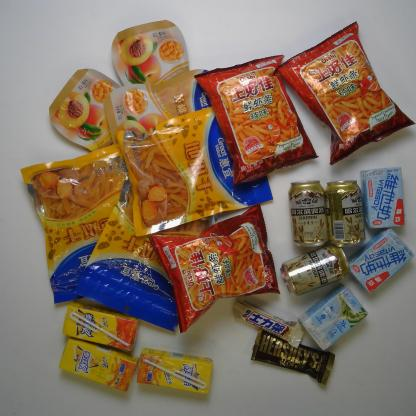Alcohol: (281, 238, 358, 298), (285, 176, 330, 249), (324, 172, 366, 250)
Chocolate: (247, 327, 336, 386), (230, 297, 308, 349)
Dried Fruit: (73, 141, 229, 334), (20, 141, 182, 304), (118, 102, 273, 237), (46, 66, 176, 172), (106, 67, 230, 173), (107, 19, 193, 126)
Drink: (53, 335, 140, 393), (133, 345, 214, 396), (62, 300, 140, 351)
Milk: (298, 284, 368, 352), (345, 229, 415, 294), (360, 164, 406, 232)
Puffed Food: (272, 20, 416, 167), (147, 199, 283, 333), (195, 53, 320, 186)
